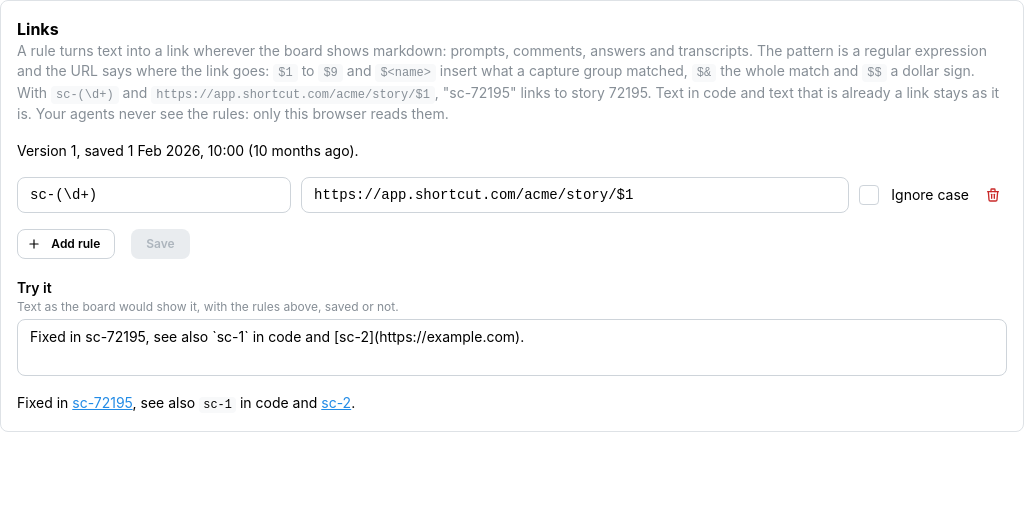
Test: LinksSettings › asks to reload when the board holds a newer version
The image size is (1024, 521).
Step 1. Type "x" into the field named "Pattern of rule 1" → (154, 195), box [17,177,291,213]
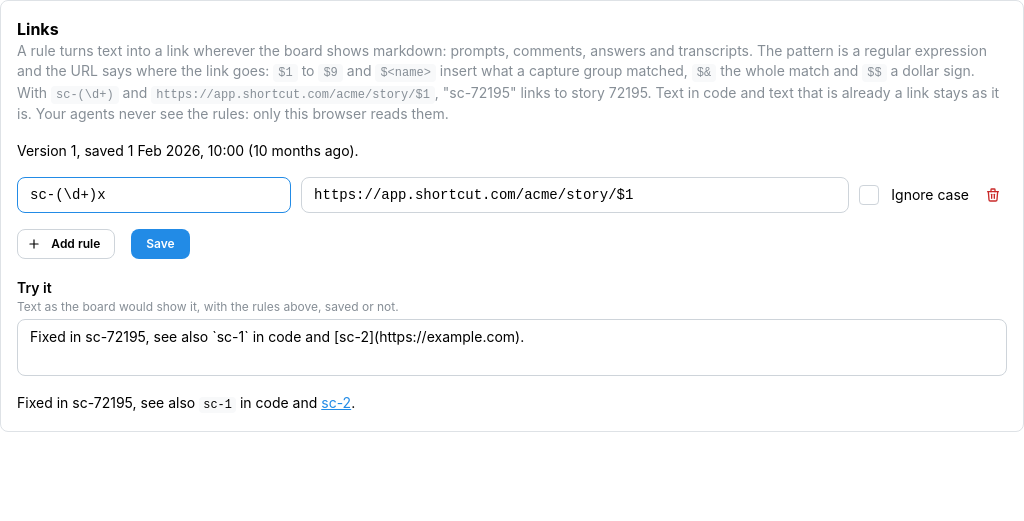
Step 2. Click the button "Save" → (160, 244), box [131,229,190,259]
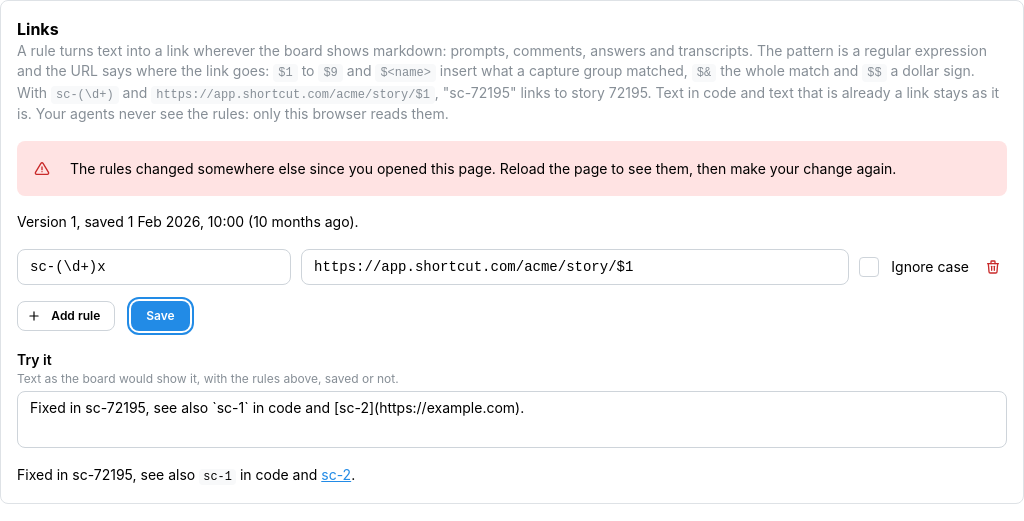
Result: the text "Reload the page" is shown at [70,160,896,177]
